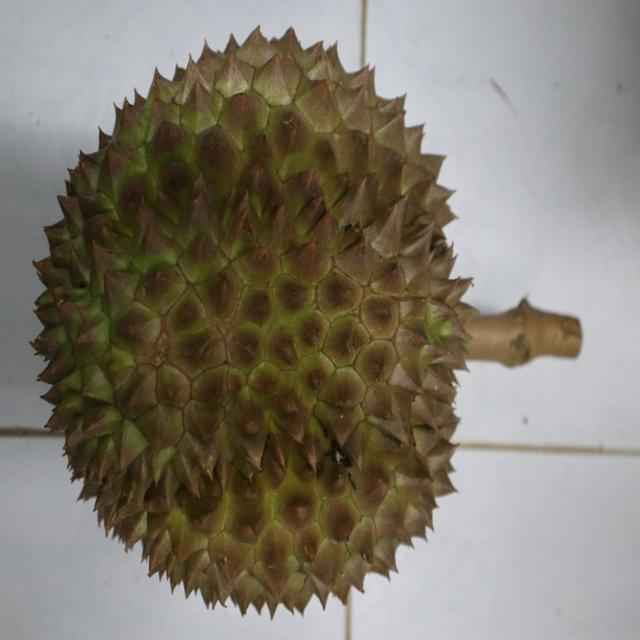mature: (29, 27, 478, 619)
